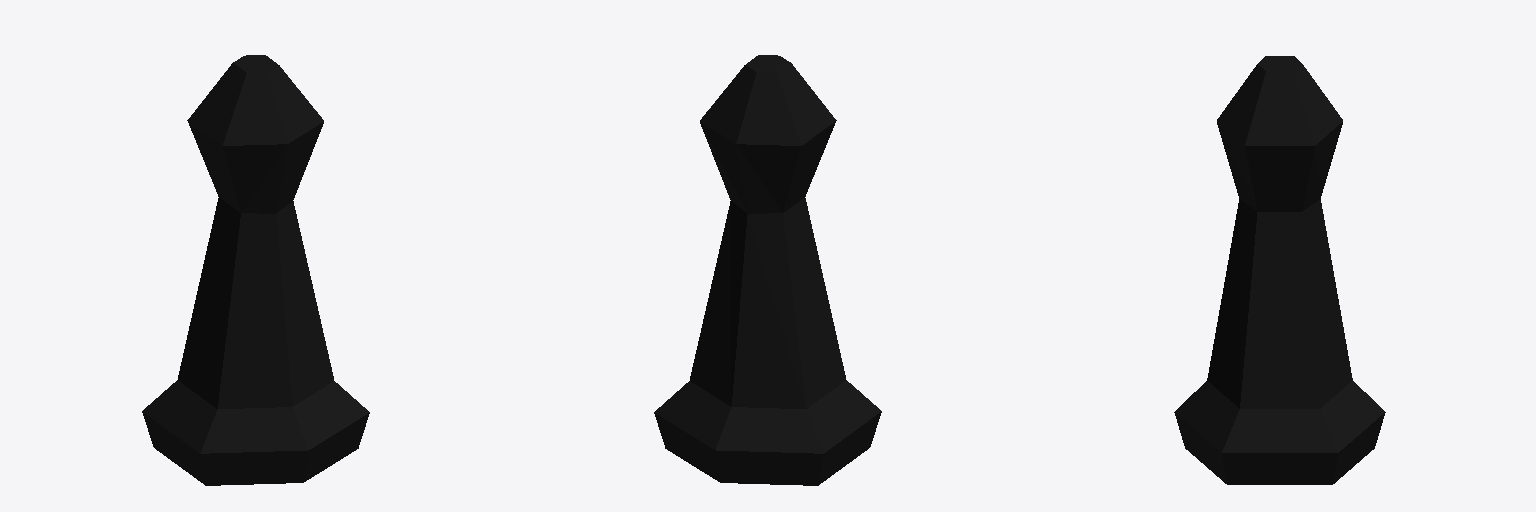
Rendered from prop_peonLow.obj.
3 views of the same model, side by side, from view 1: azimuth 30°, elevation 25°; view 2: azimuth 150°, elevation 25°; view 3: azimuth 270°, elevation 25° (orthographic).
Parts seen in each view (by area): view 1: PeonLow; view 2: PeonLow; view 3: PeonLow.
Boxes of the visible parts, x1=… form: PeonLow: x1=142, y1=55, x2=369, y2=485; PeonLow: x1=654, y1=55, x2=881, y2=485; PeonLow: x1=1174, y1=56, x2=1385, y2=484.
Bounding box in the file's own units: 0.0308 × 0.0667 × 0.0333.